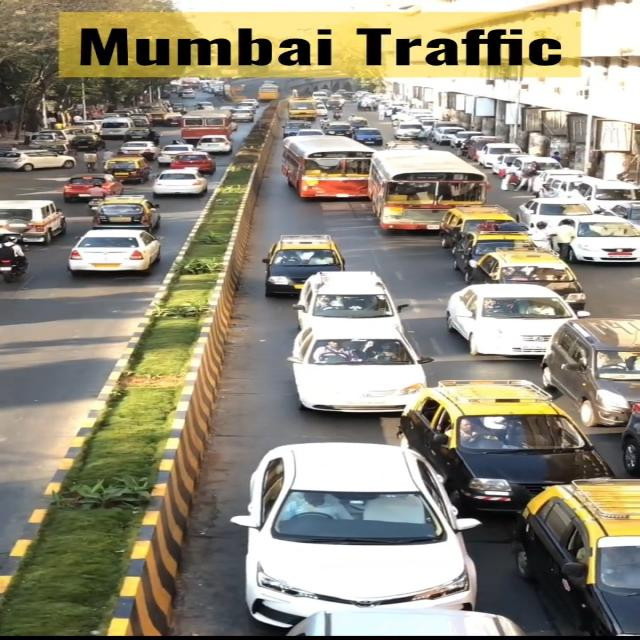Taxi: (405, 377, 606, 504)
